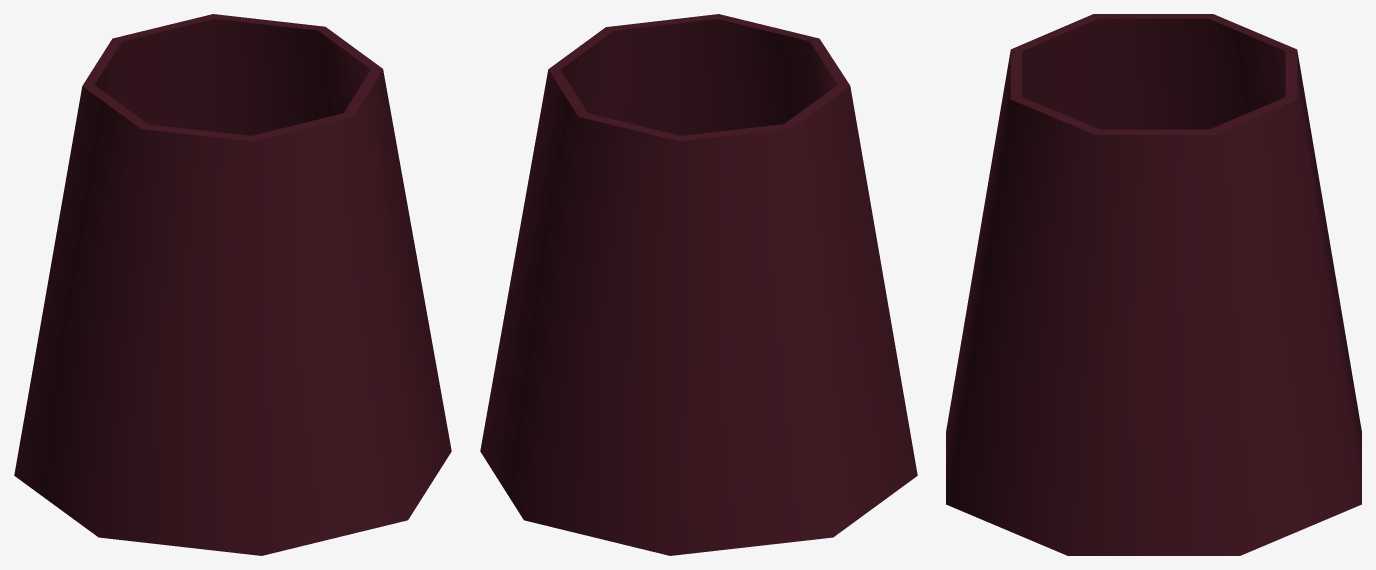
Rendered from Itr_Lamp_Cap1_04.FBX.
The picture shows the model from 3 angles, left to right: view 1: azimuth 30°, elevation 25°; view 2: azimuth 150°, elevation 25°; view 3: azimuth 270°, elevation 25°; orthographic projection. The views are drawn at different scales.
Visible parts, largest first — view 1: Itr_Lamp_Cap1_04; view 2: Itr_Lamp_Cap1_04; view 3: Itr_Lamp_Cap1_04.
Boxes of the visible parts, x1,y1,x2,y2 form: Itr_Lamp_Cap1_04: (14, 14, 451, 555); Itr_Lamp_Cap1_04: (480, 14, 917, 555); Itr_Lamp_Cap1_04: (946, 14, 1361, 555).
Size of the model in its own units: 8.48 by 8.86 by 8.48.
